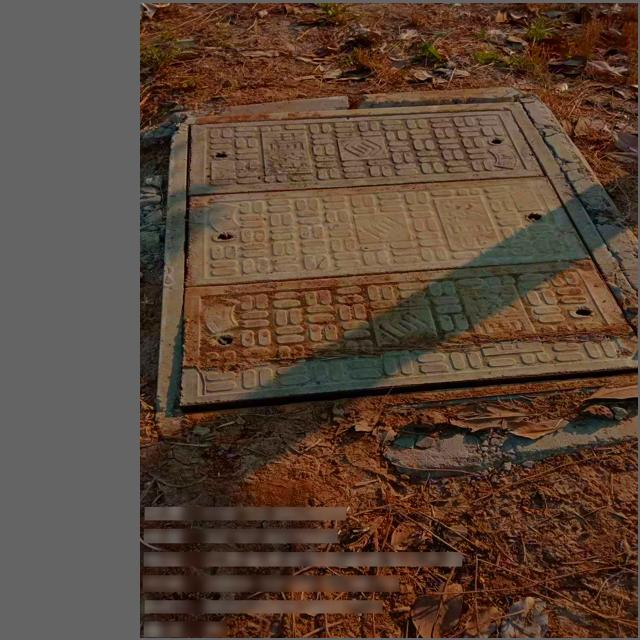circle: (146, 88, 638, 425)
